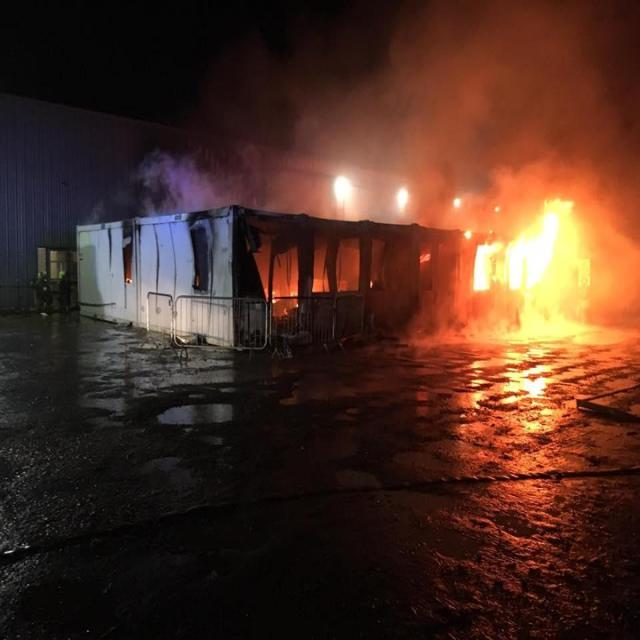Fire: (468, 182, 618, 341)
